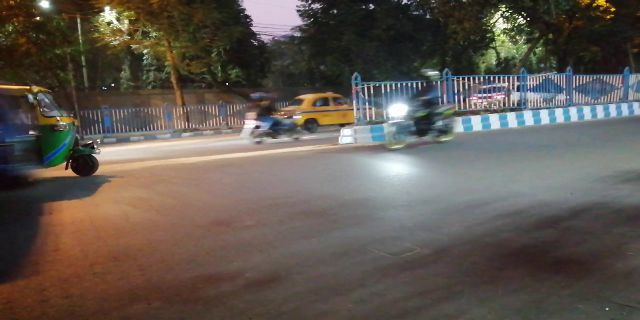Autorickshaw: (8, 82, 100, 177)
Motorbike: (381, 75, 462, 148), (237, 89, 303, 144)
